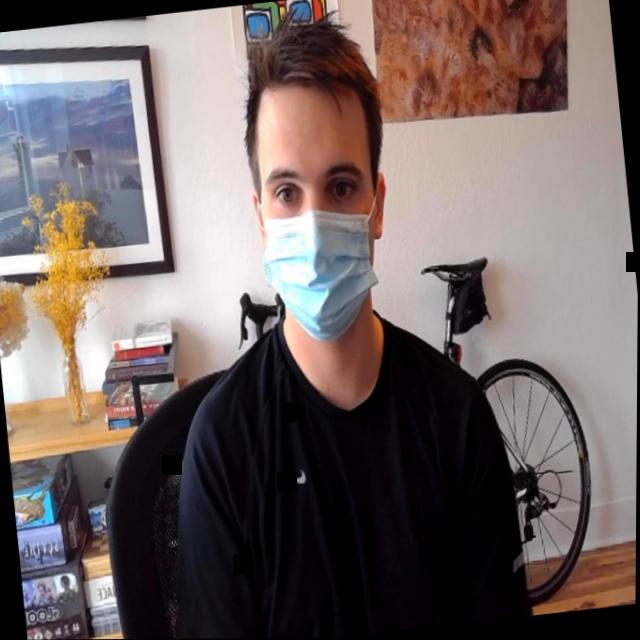Mask: (243, 68, 394, 351)
